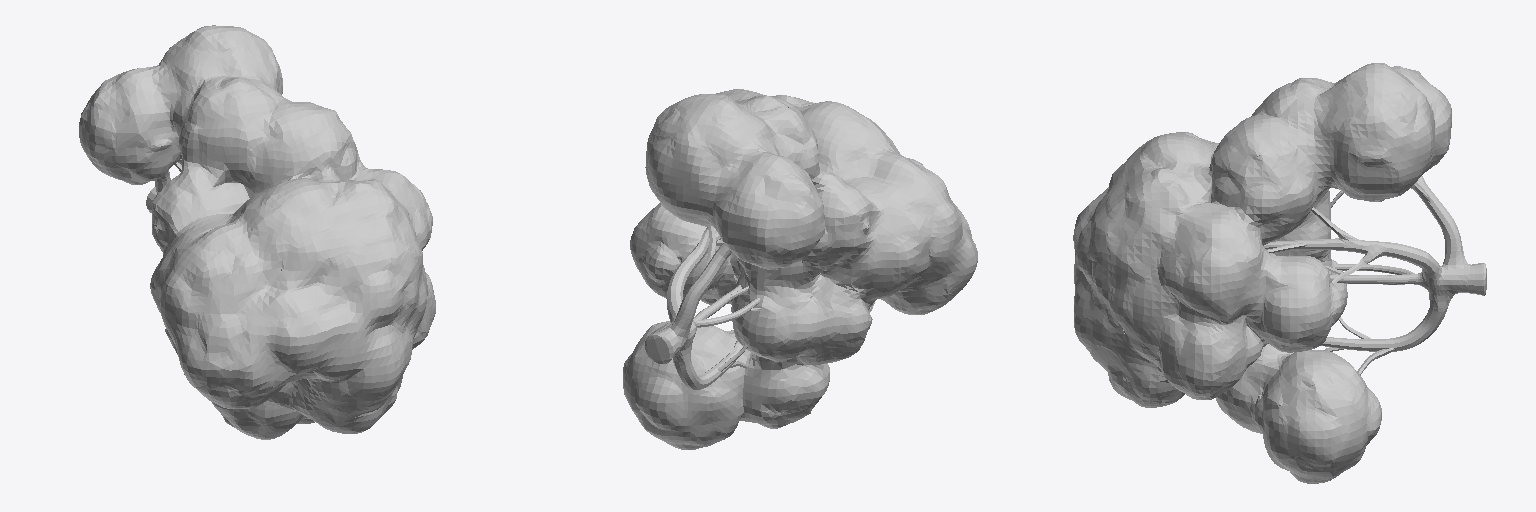
The model's file is 10445_Oak_Tree_v1_max2010_iteration-1.obj.
3 views of the same model, side by side, from view 1: azimuth 30°, elevation 25°; view 2: azimuth 150°, elevation 25°; view 3: azimuth 270°, elevation 25° (orthographic).
Parts seen in each view (by area): view 1: 10445_Oak_tree_v1_SG; view 2: 10445_Oak_tree_v1_SG; view 3: 10445_Oak_tree_v1_SG.
Boxes of the visible parts, <box> form: 10445_Oak_tree_v1_SG: <box>79,25,435,439</box>; 10445_Oak_tree_v1_SG: <box>623,89,977,449</box>; 10445_Oak_tree_v1_SG: <box>1073,63,1486,483</box>.
Bounding box in the file's own units: 464 × 608 × 596.